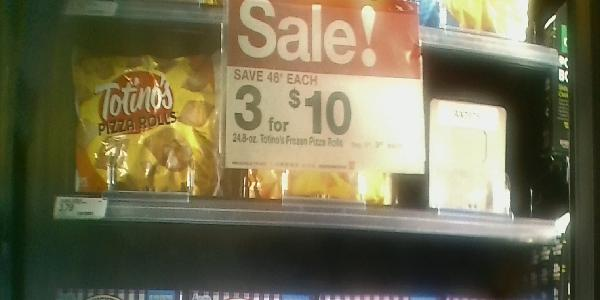icecream: (224, 26, 404, 211), (66, 43, 227, 200)
